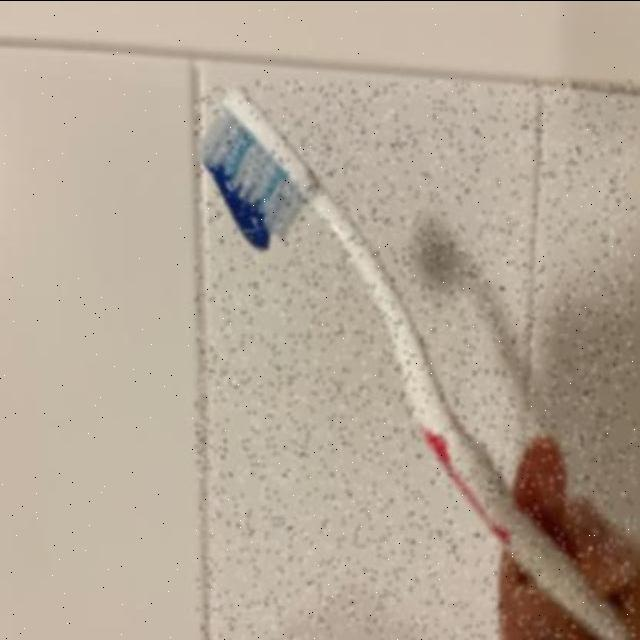toothbrush: (195, 80, 635, 640)
